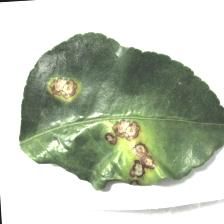canker: (43, 70, 164, 184)
